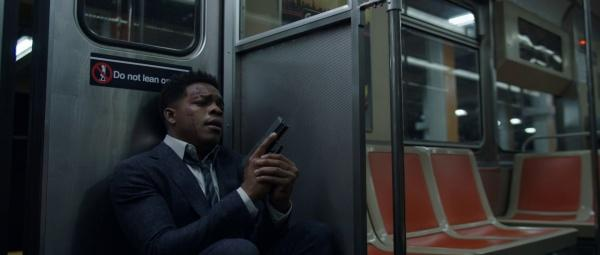Gun: (242, 115, 290, 169)
